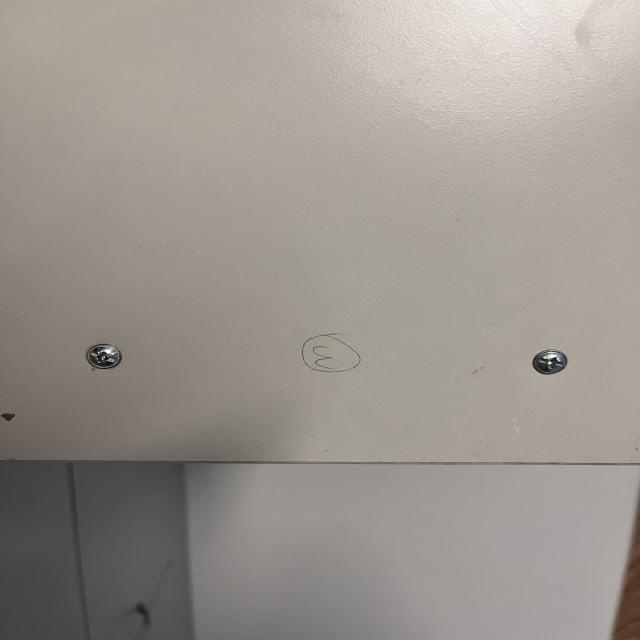pozidriv: (532, 348, 568, 375), (86, 343, 122, 369)
